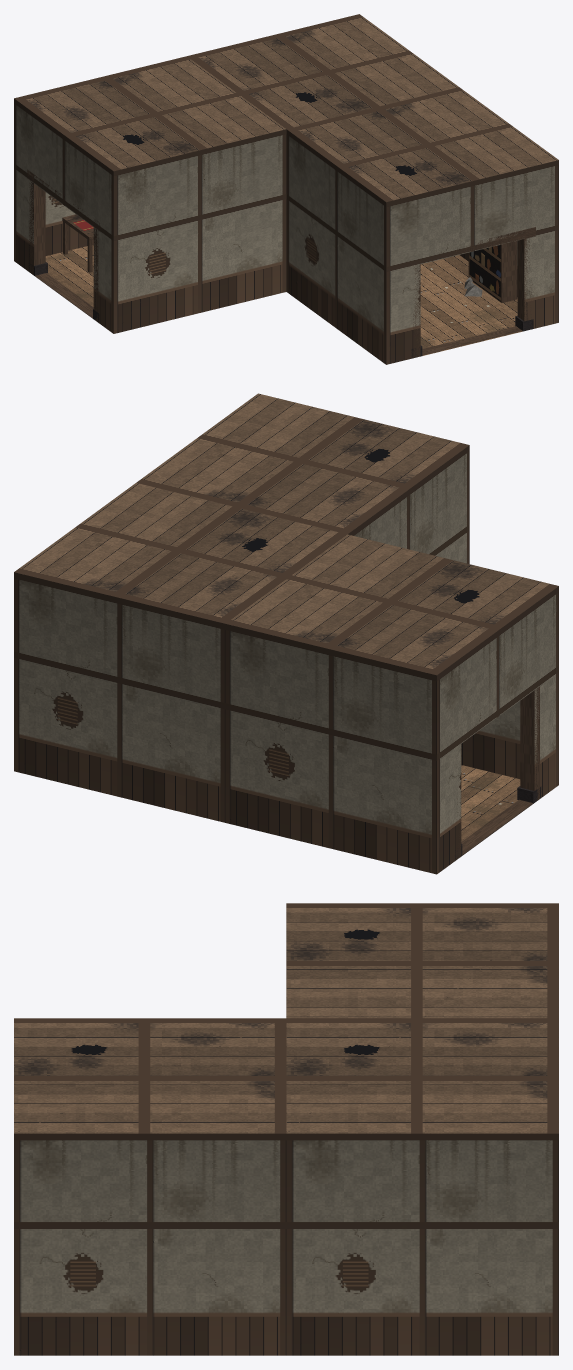
3 renders of one model, top to bottom at view 1: azimuth 30°, elevation 25°; view 2: azimuth 150°, elevation 25°; view 3: azimuth 270°, elevation 25°, orthographic. The views are drawn at different scales.
Visible parts, largest first — view 1: __A, __A_Deco; view 2: __A, __A_Deco; view 3: __A.
Part boxes in pixels (box(x1,y1,x2,y2)): __A: box(14, 14, 558, 364); __A_Deco: box(28, 262, 533, 358); __A: box(14, 393, 558, 874); __A_Deco: box(456, 786, 541, 859); __A: box(14, 903, 558, 1355).
Bounding box in the file's own units: 1.33 × 1.33 × 0.6.
4 materials, 4 textured.
